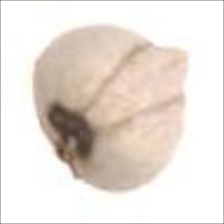L5: (84, 41, 191, 128), (41, 99, 99, 183)
L6: (29, 23, 198, 196)
